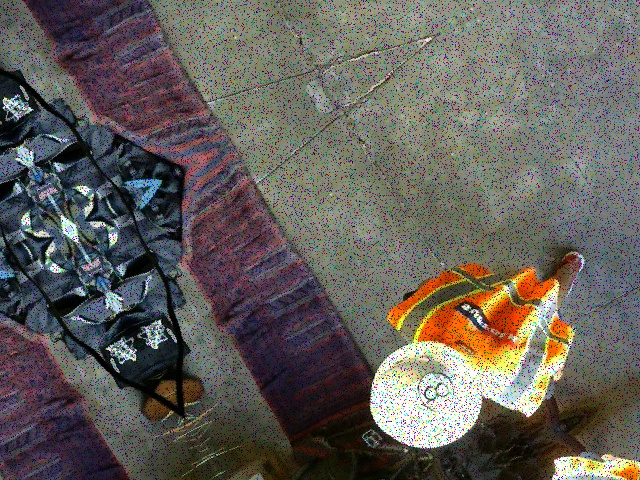eight: (408, 364, 464, 418)
